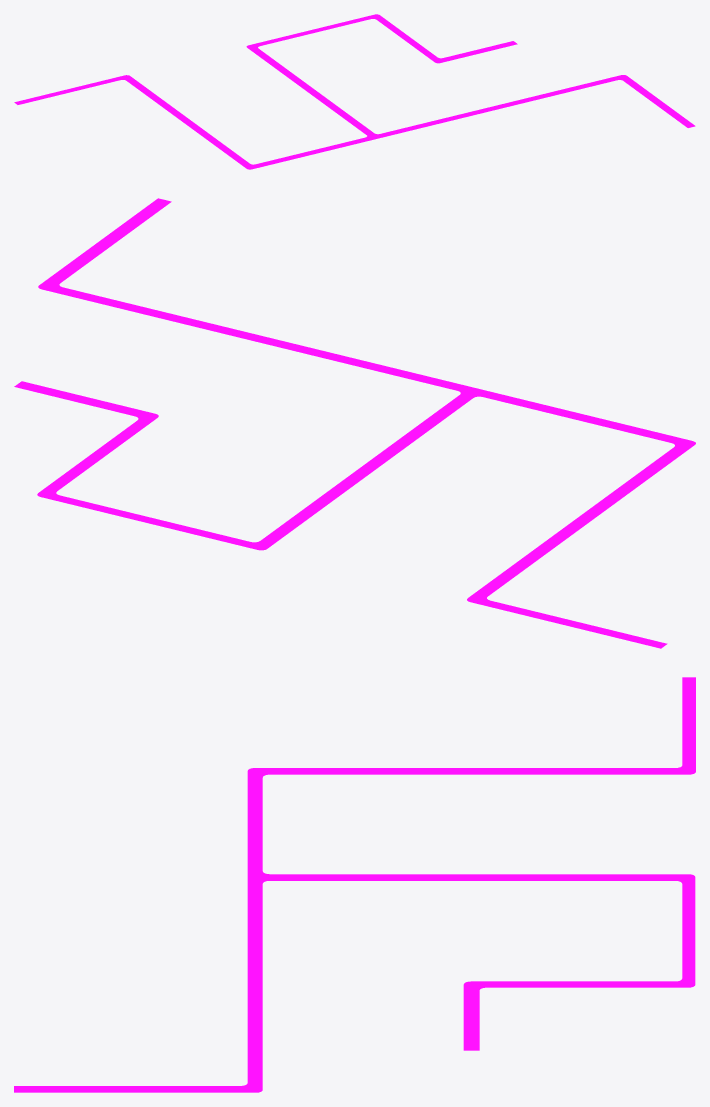
The model's file is Lane_3.fbx.
3 views of the same model, one above another, from view 1: azimuth 30°, elevation 25°; view 2: azimuth 150°, elevation 25°; view 3: azimuth 270°, elevation 25° (orthographic). The views are drawn at different scales.
Parts seen in each view (by area): view 1: LANE_3; view 2: LANE_3; view 3: LANE_3.
Boxes of the visible parts, bbox=[...] form: LANE_3: bbox=[14, 14, 695, 169]; LANE_3: bbox=[14, 198, 695, 648]; LANE_3: bbox=[14, 677, 695, 1092].
Size of the model in its own units: 2731 by 0.000309 by 1894.
